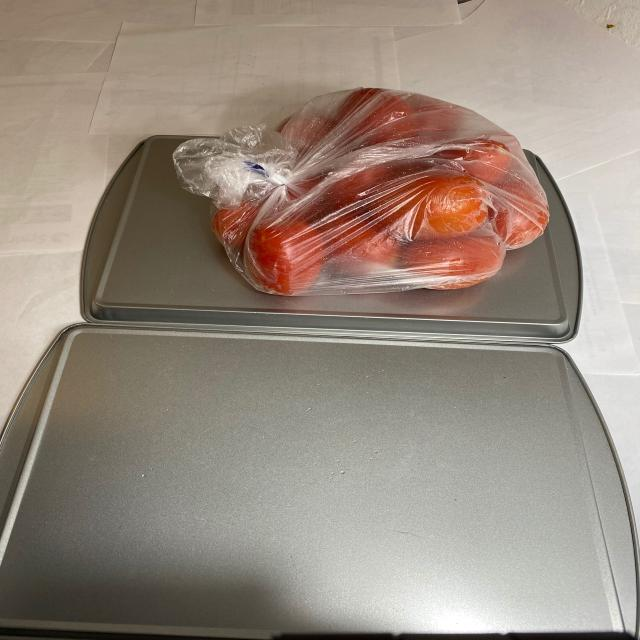tomato: (212, 86, 554, 288)
